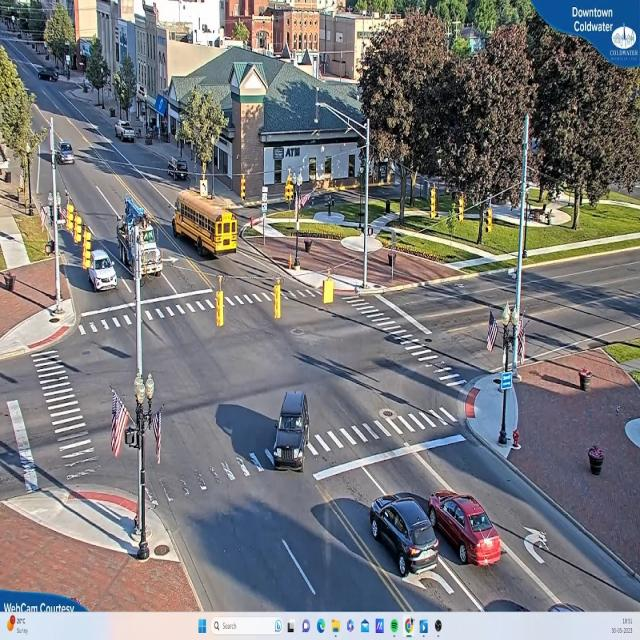bus: (172, 188, 244, 258)
car: (219, 392, 313, 476), (368, 494, 442, 578), (427, 491, 506, 568), (89, 250, 119, 291), (117, 122, 137, 145), (58, 142, 74, 162)
truck: (116, 200, 161, 285)
